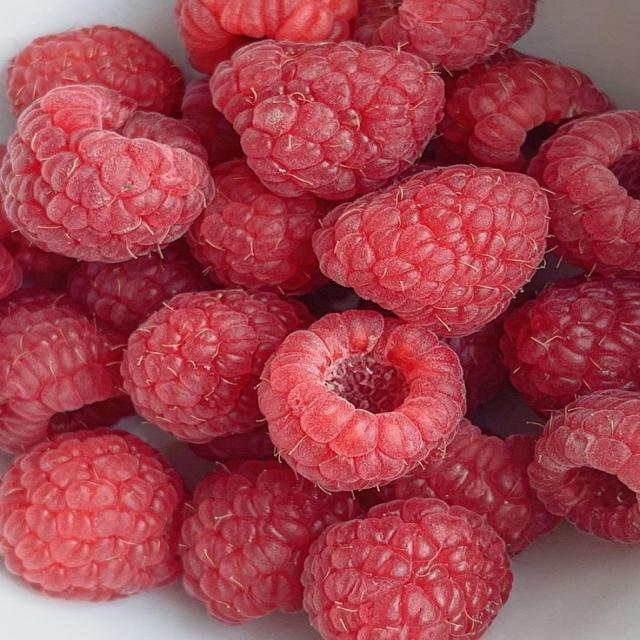raspberry: (314, 165, 547, 336), (0, 86, 213, 261), (259, 311, 465, 490), (212, 42, 444, 200), (0, 430, 184, 601), (302, 499, 512, 639), (181, 461, 360, 623), (122, 290, 309, 443), (394, 420, 559, 555), (439, 53, 612, 170), (0, 290, 121, 451), (501, 279, 639, 414), (187, 160, 326, 294), (529, 111, 639, 274), (529, 390, 639, 542), (8, 26, 183, 115), (67, 242, 210, 335), (176, 0, 357, 73), (354, 0, 536, 70), (442, 318, 506, 412), (444, 319, 506, 411), (182, 78, 243, 166), (2, 233, 77, 289), (48, 396, 134, 436), (191, 427, 274, 460), (301, 282, 361, 317), (0, 245, 22, 299), (356, 483, 396, 510), (0, 190, 12, 241)
